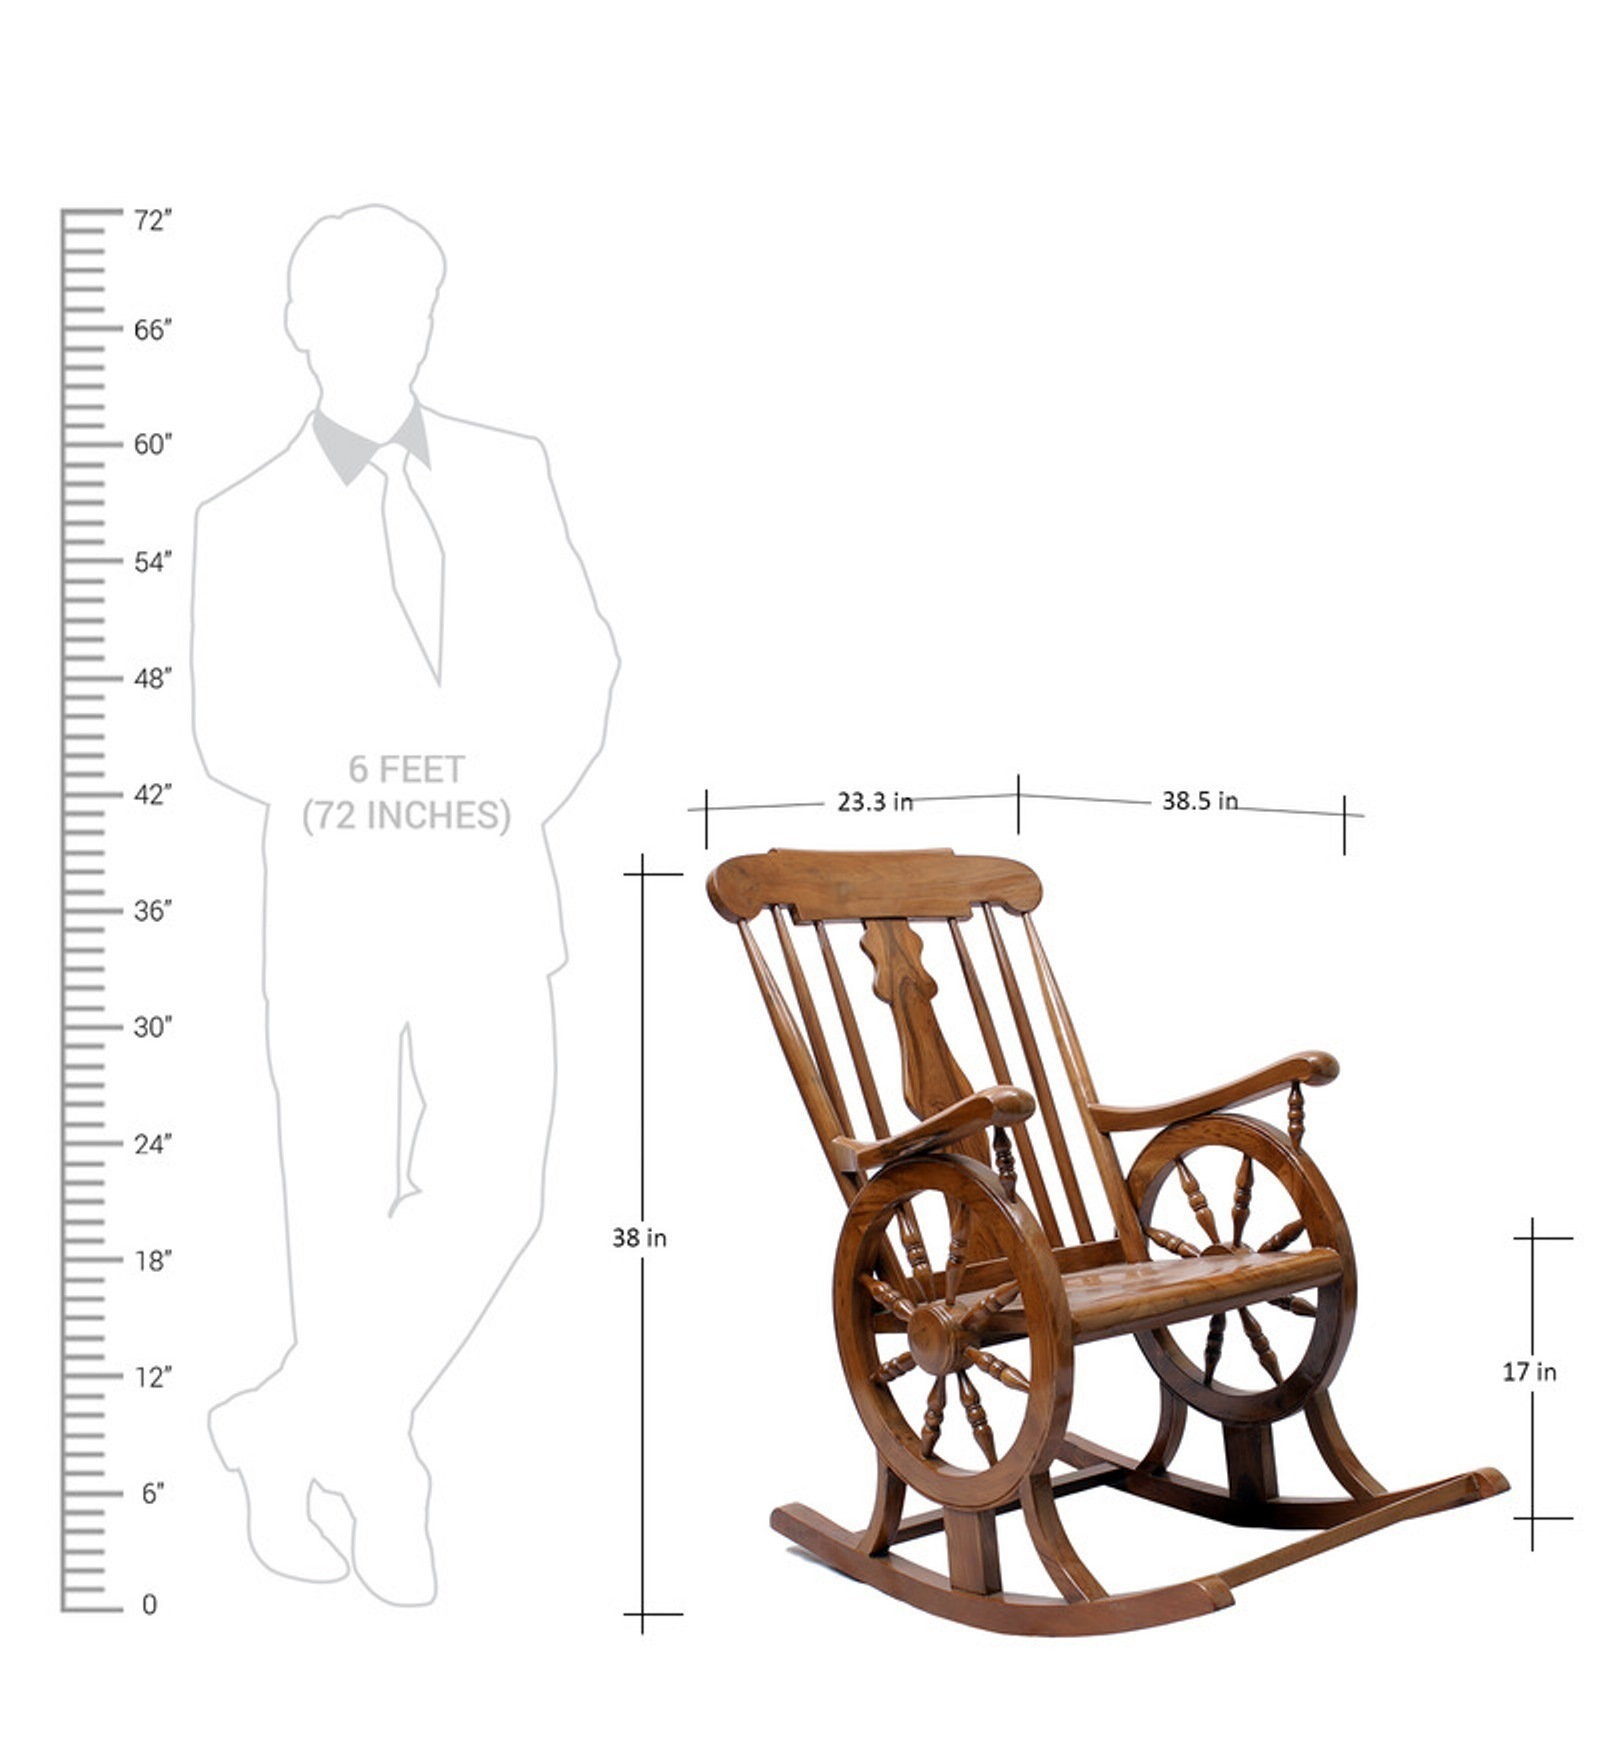Chelmsford Teak Wood Rocking Chair in Composite Teak Finish by Finesse: (673, 816, 1510, 1663)
